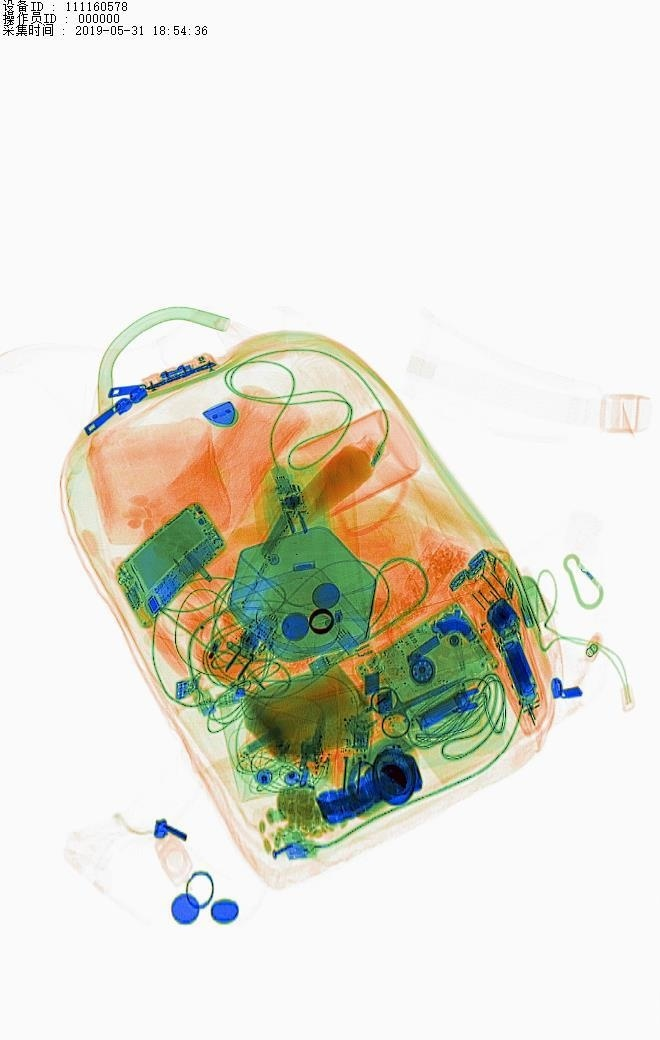NonmetallicFire: (346, 675, 431, 739)
